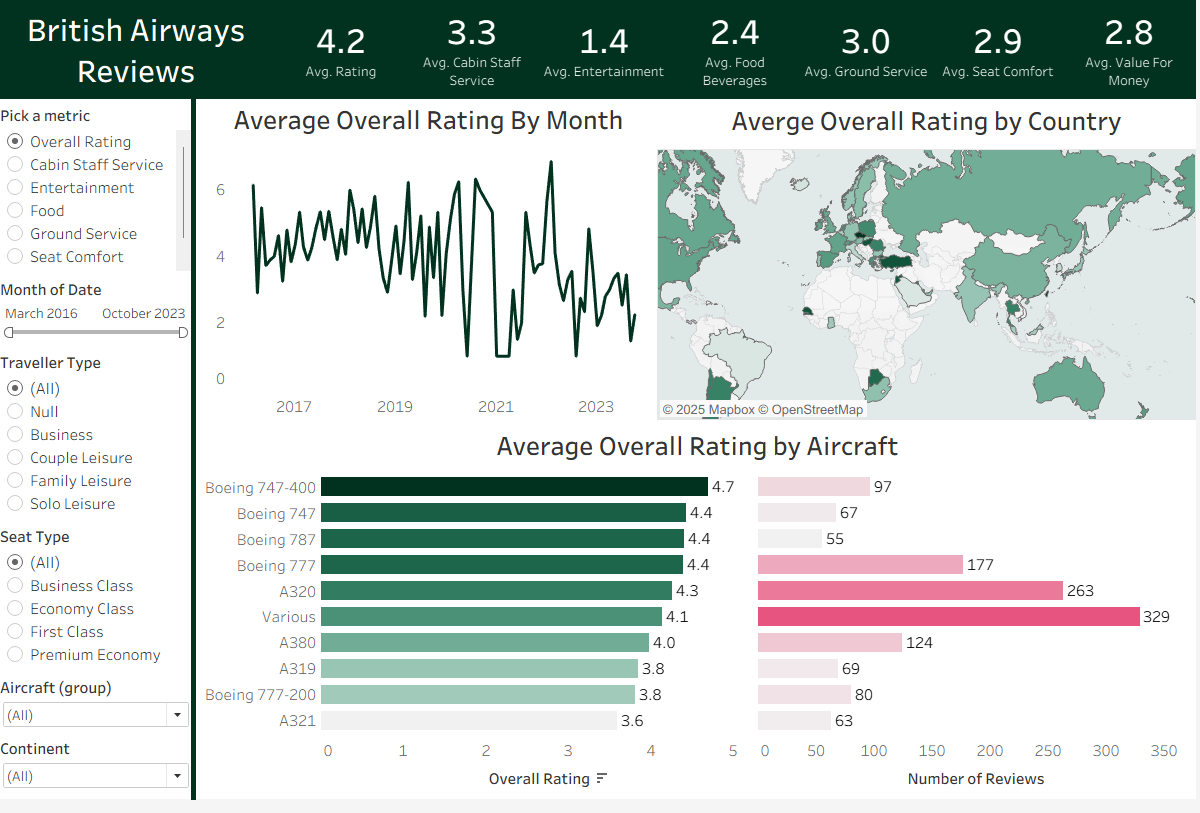

Layout of this report page (visuals, bound fields, positions):
{"tool":"tableau","page":{"name":"Dashboard 1","canvas":[1200,800],"ordinal":0},"visuals":[{"type":"text","box":[0,0,280,100]},{"type":"worksheet","title":"Summary","mark":"Automatic","box":[279,0,921,100]},{"type":"blank","box":[195,98,5,703]},{"type":"worksheet","title":"Month","mark":"Automatic","rows":["Calculation_1305762441566646272"],"cols":["date"],"box":[206,99,453,321]},{"type":"worksheet","title":"Map&Filters","mark":"Automatic","box":[661,100,539,321]},{"type":"parameter","param":"[Parameters].[Parameter 1]","box":[0,102,200,174]},{"type":"filter","title":"Map&Filters","param":"[federated.1dqz31y0yt1rv41740rjg0rhxtsd].[tmn:date:qk]","box":[0,276,200,73]},{"type":"filter","title":"Map&Filters","param":"[federated.1dqz31y0yt1rv41740rjg0rhxtsd].[none:traveller_type:nk]","box":[0,349,200,174]},{"type":"worksheet","title":"Aircraft","mark":"Automatic","cols":["Calculation_1305762441566646272","ba_reviews.csv_E6A59411D8654A60827A5B13B92B4791"],"box":[205,425,993,372]},{"type":"filter","title":"Map&Filters","param":"[federated.1dqz31y0yt1rv41740rjg0rhxtsd].[none:seat_type:nk]","box":[0,523,200,151]},{"type":"filter","title":"Map&Filters","param":"[federated.1dqz31y0yt1rv41740rjg0rhxtsd].[Aircraft (group)]","box":[0,674,200,61]},{"type":"filter","title":"Map&Filters","param":"[federated.1dqz31y0yt1rv41740rjg0rhxtsd].[none:Continent:nk]","box":[0,735,200,61]}]}

Visuals, with their boxes in screenshot pixels (x1, y1, x2, y2), scaled from the page's 1200x800 canvas onto the 1200x813 screenshot:
text: x1=0 y1=0 x2=280 y2=102
"Summary" worksheet: x1=279 y1=0 x2=1199 y2=102
blank: x1=195 y1=100 x2=200 y2=812
"Month" worksheet: x1=206 y1=101 x2=659 y2=427
"Map&Filters" worksheet: x1=661 y1=102 x2=1199 y2=428
parameter: x1=0 y1=104 x2=200 y2=280
"Map&Filters" filter: x1=0 y1=280 x2=200 y2=355
"Map&Filters" filter: x1=0 y1=355 x2=200 y2=531
"Aircraft" worksheet: x1=205 y1=432 x2=1198 y2=810
"Map&Filters" filter: x1=0 y1=531 x2=200 y2=685
"Map&Filters" filter: x1=0 y1=685 x2=200 y2=747
"Map&Filters" filter: x1=0 y1=747 x2=200 y2=809
